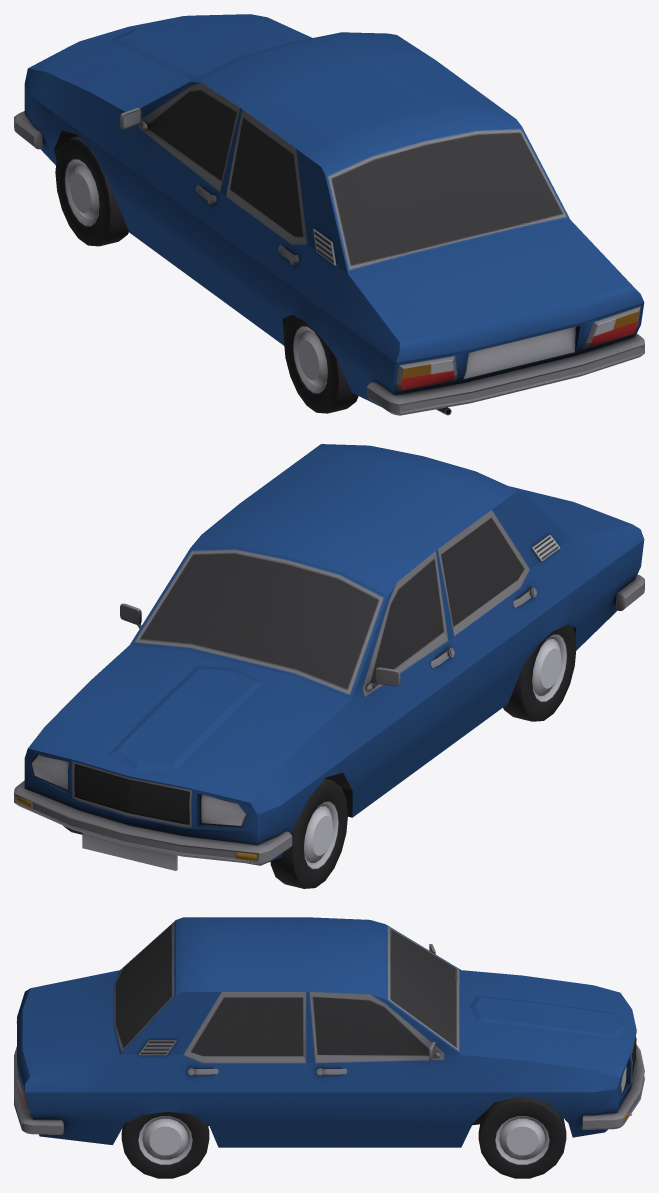
The model's file is Car04.FBX.
The picture shows the model from 3 angles, top to bottom: view 1: azimuth 30°, elevation 25°; view 2: azimuth 150°, elevation 25°; view 3: azimuth 270°, elevation 25°; orthographic projection. The views are drawn at different scales.
Visible parts, largest first — view 1: Body, FLWheel, RLWheel; view 2: Body, FLWheel, RLWheel; view 3: Body, FRWheel, RRWheel.
Boxes of the visible parts, box(x1,y1,x2,y2) form: Body: box(14, 14, 644, 415); FLWheel: box(55, 136, 128, 246); RLWheel: box(283, 315, 358, 413); Body: box(14, 444, 644, 870); FLWheel: box(270, 778, 347, 888); RLWheel: box(503, 625, 576, 721); Body: box(14, 917, 644, 1147); FRWheel: box(478, 1096, 566, 1178); RRWheel: box(121, 1111, 209, 1178).
Size of the model in its own units: 1.73 by 1.45 by 4.33.
2 materials, 2 textured.
